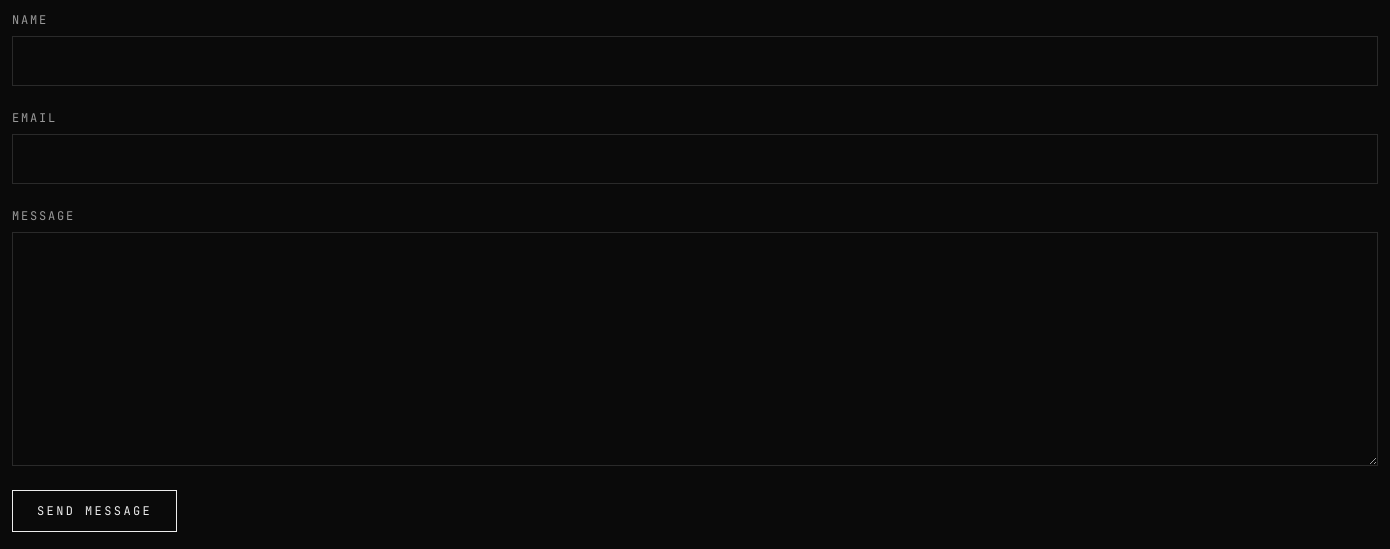
Scenario: ContactForm (Req 17.4, 17.7, 17.8) › shows a success confirmation on a 200 response (Req 17.8)
The width and height of the screenshot is (1390, 549).
Step 1. Type "Ada Lovelace" into the field labelled "Name" → point(695, 61), box left=12, top=36, right=1378, bottom=86
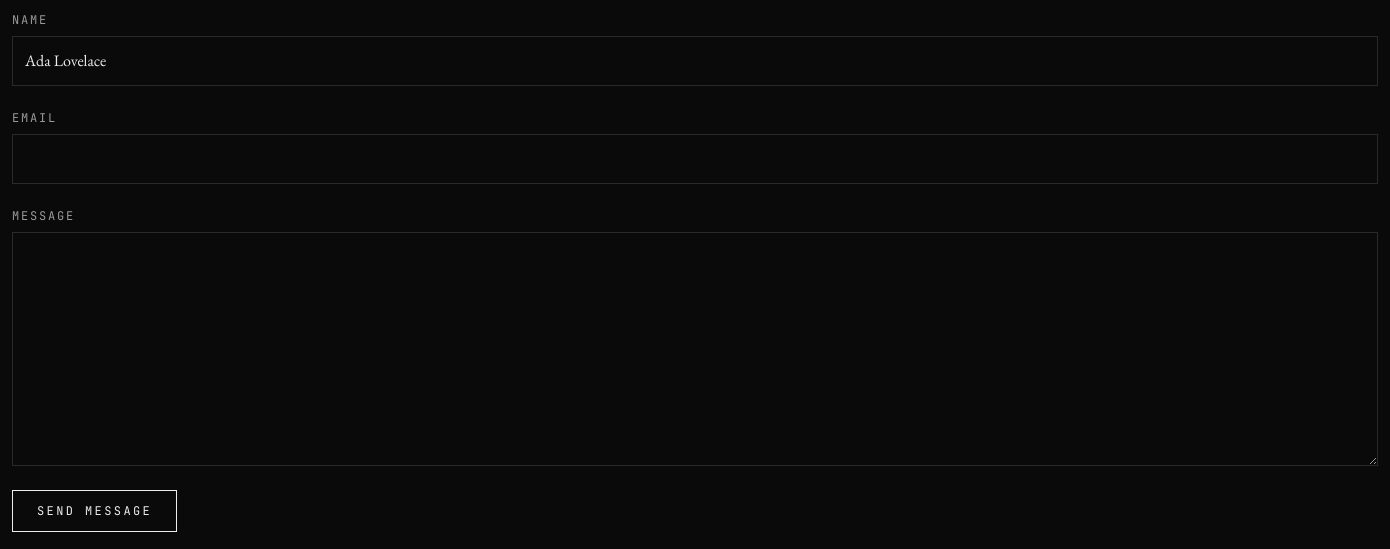
Step 2. Type "ada@example.com" into the field labelled "Email" → point(695, 159), box left=12, top=134, right=1378, bottom=184
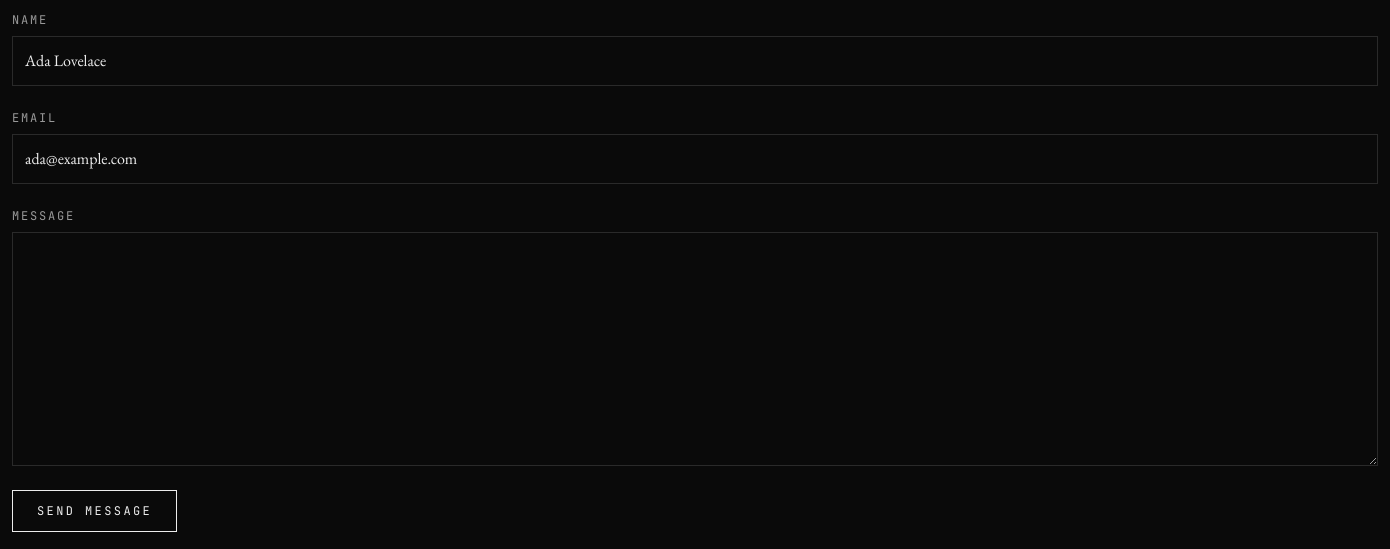
Step 3. Type "Hello there." into the text box labelled "Message" → point(695, 349), box left=12, top=232, right=1378, bottom=466
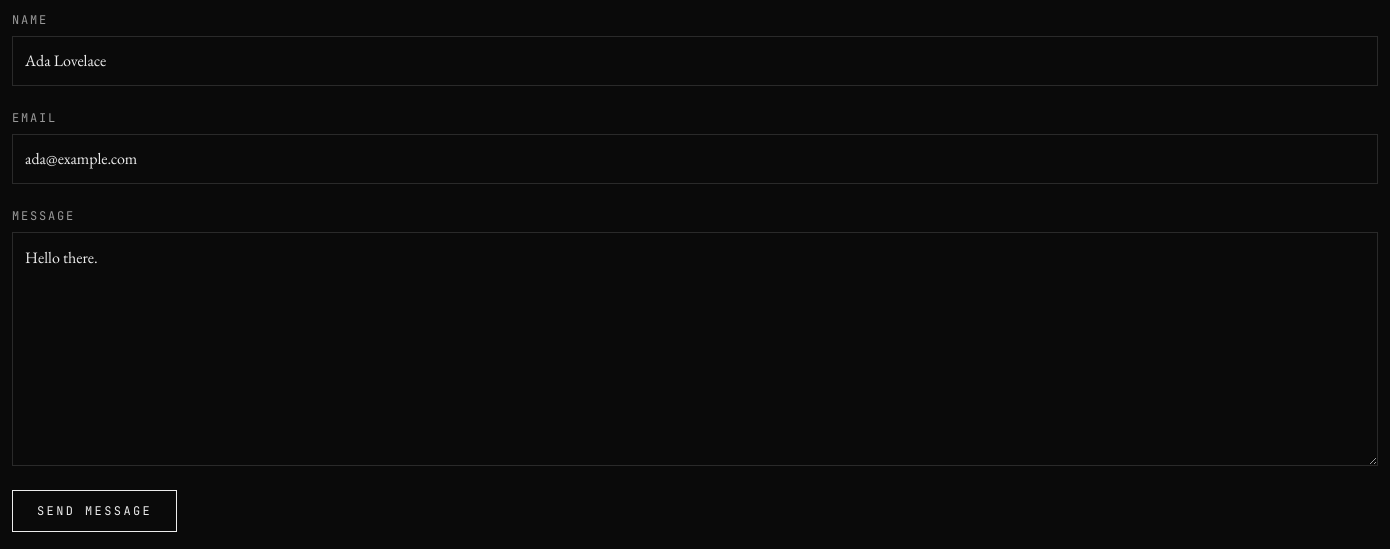
Step 4. Click the button "Send message" → point(95, 511), box left=12, top=490, right=177, bottom=532
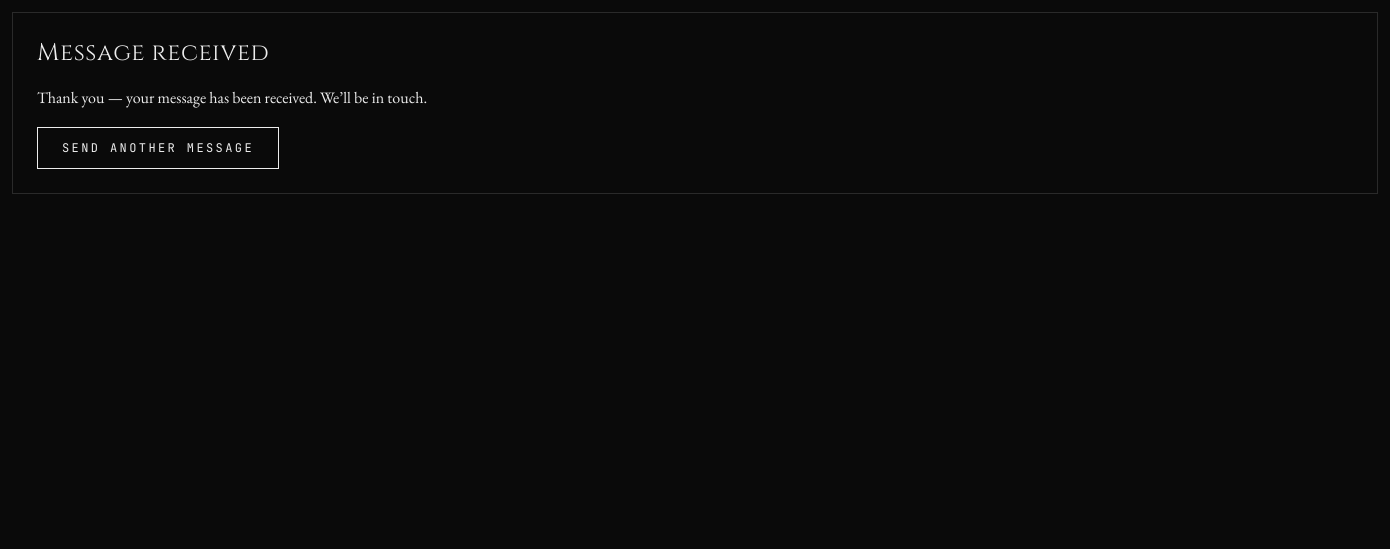
Expected: the heading "Message received" is shown, left=37, top=37, right=269, bottom=69
